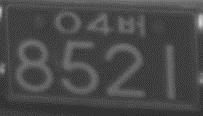0: (53, 10, 81, 35)
1: (154, 44, 189, 101)
2: (104, 41, 147, 98)
4: (86, 11, 114, 38)
5: (60, 39, 99, 95)
8: (15, 36, 54, 94)
버: (116, 12, 147, 40)
